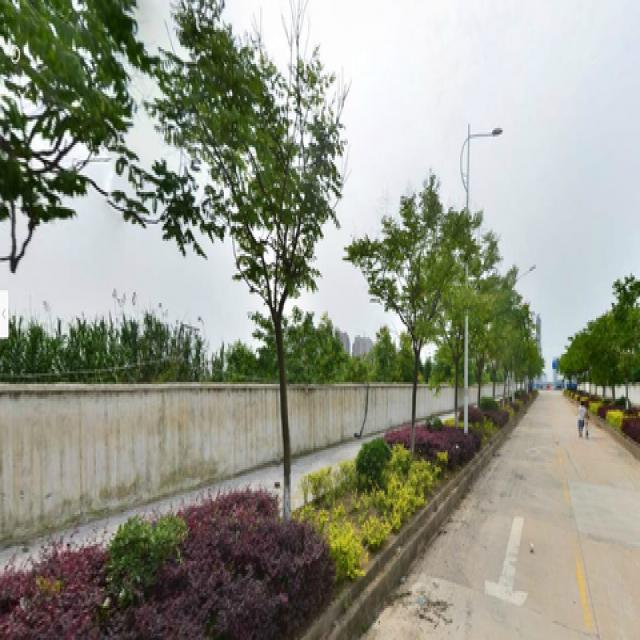koel: (159, 9, 349, 516)
